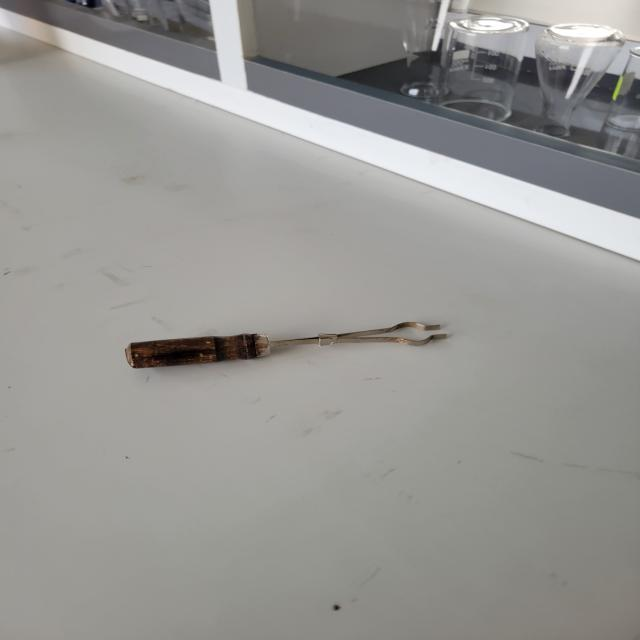TestTube_Holder: (106, 264, 477, 413)
